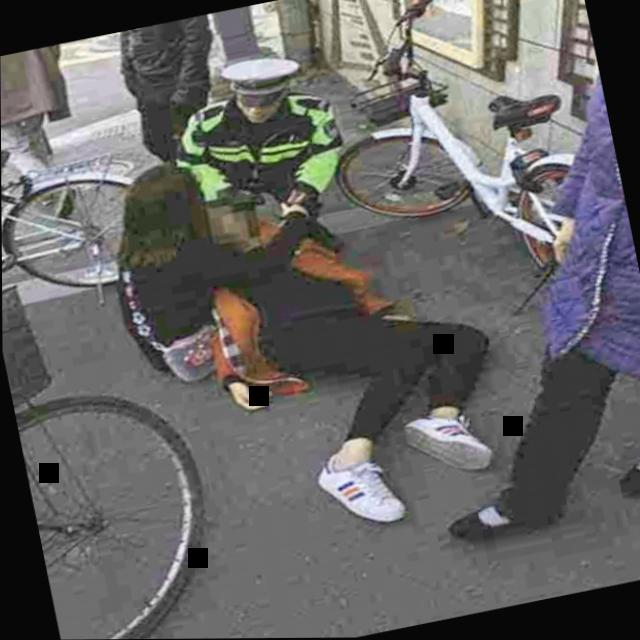Fall-Detected: (147, 141, 544, 563)
